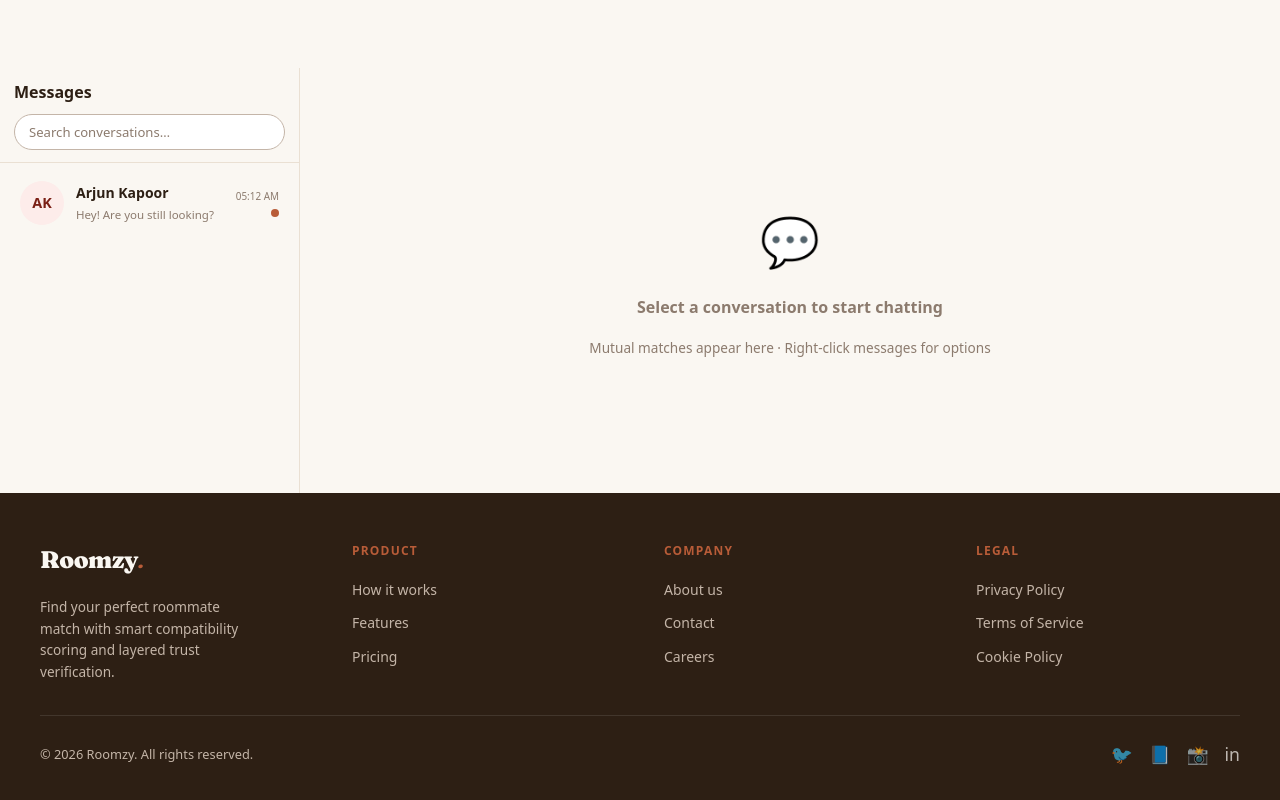
Chat page › search filters conversation list
Expected: the text "Arjun Kapoor" is shown, [76,183,169,202]
Type "xyz_no_match" into the field with placeholder "Search conversations…" at [150, 132], box [14,114,285,150]
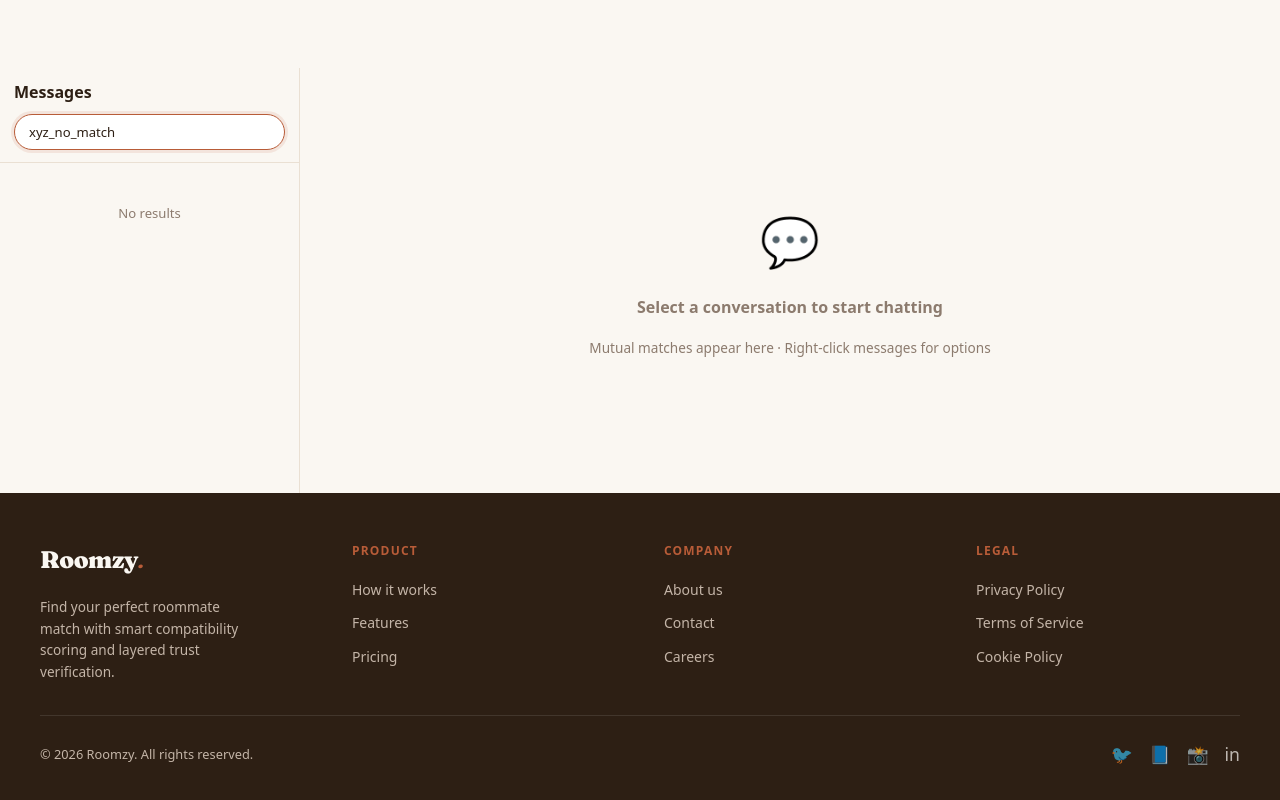
Expected: the text "Arjun Kapoor" is gone
